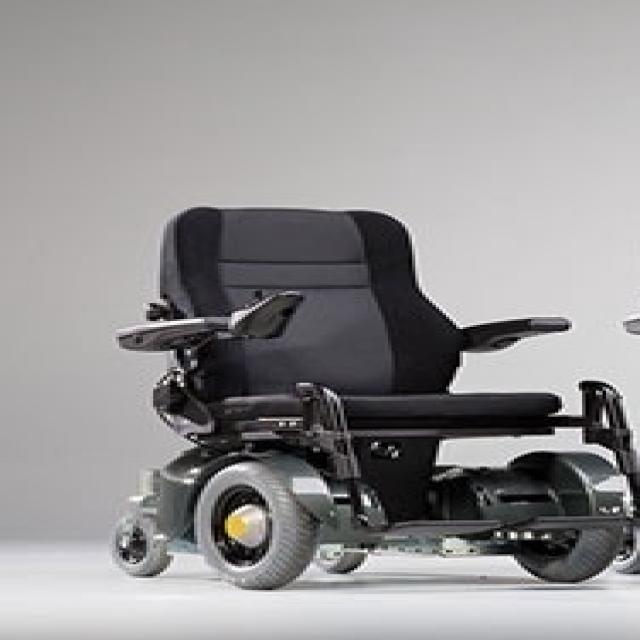wheelchair: (88, 170, 640, 602)
